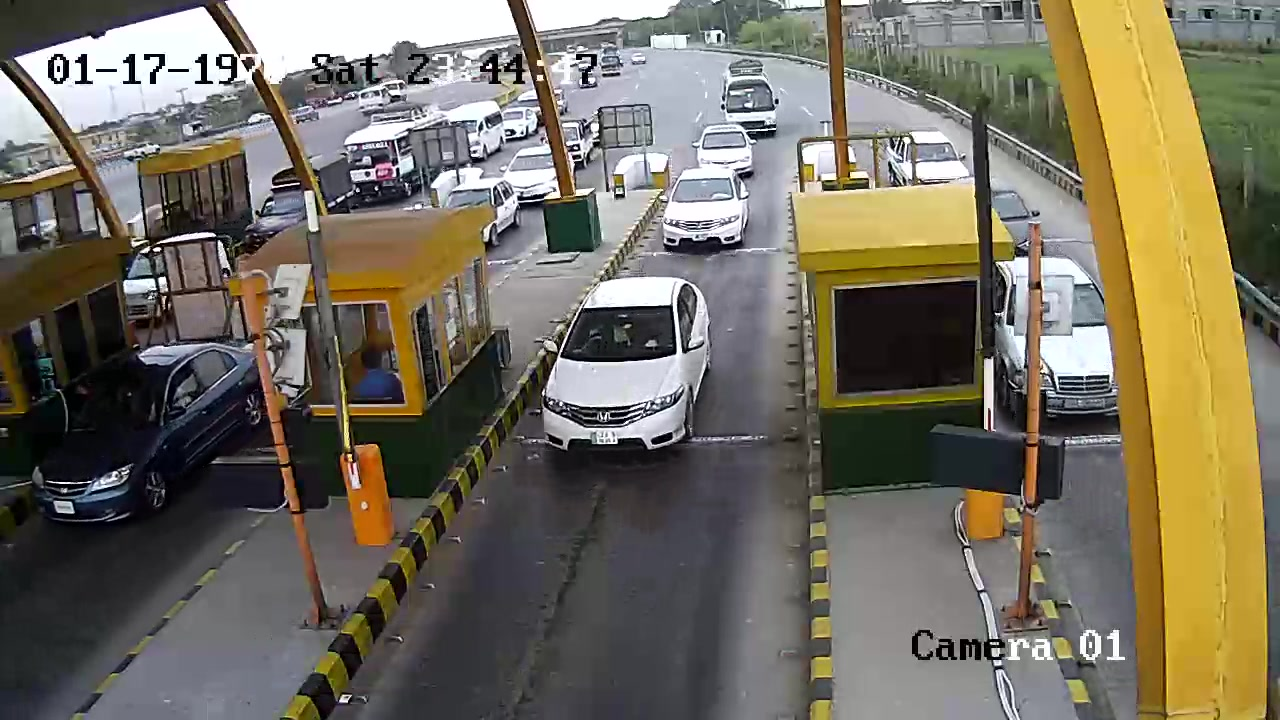F1: (531, 271, 729, 468)
